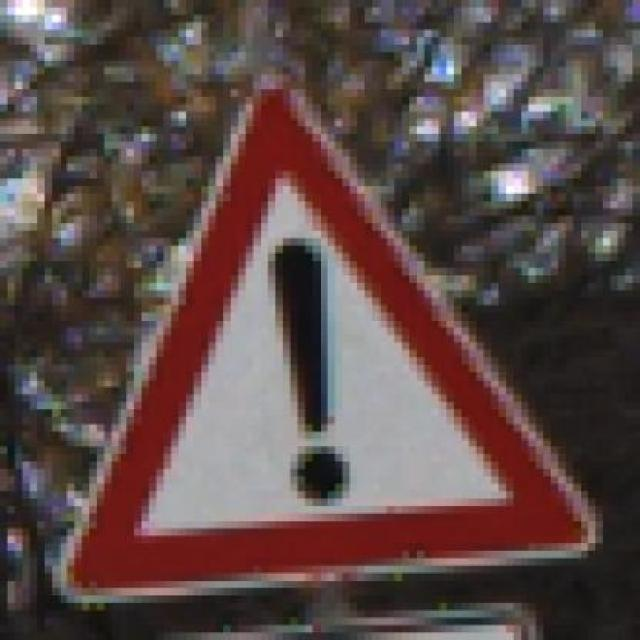Attention Please-: (60, 74, 603, 595)
